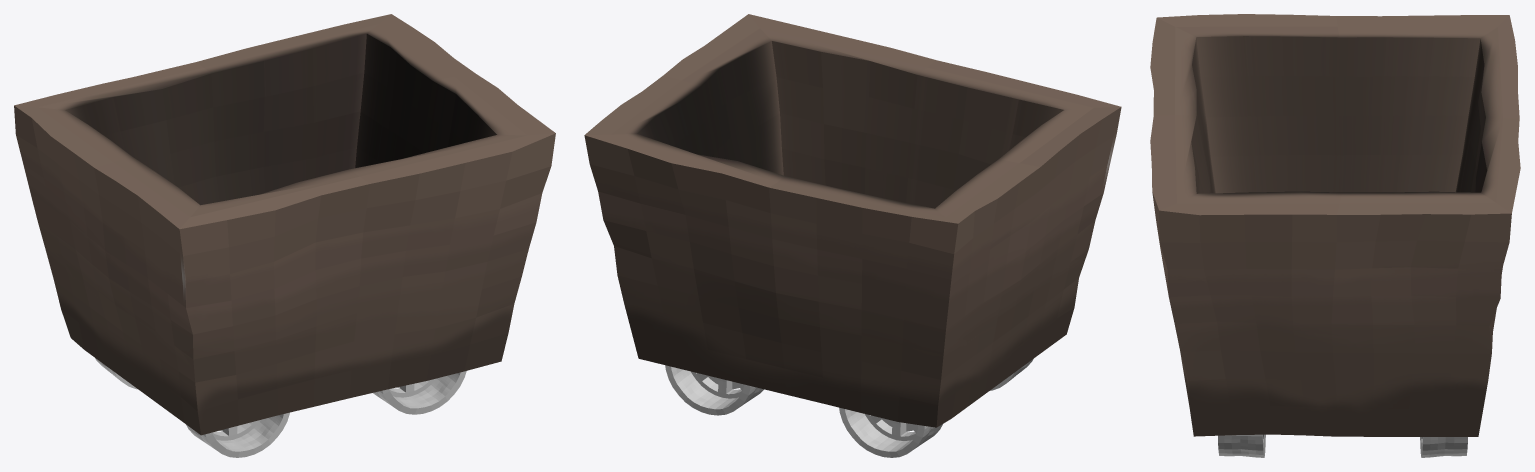
Rendered from cart.fbx.
The picture shows the model from 3 angles, left to right: view 1: azimuth 30°, elevation 25°; view 2: azimuth 150°, elevation 25°; view 3: azimuth 270°, elevation 25°; orthographic projection. The views are drawn at different scales.
Visible parts, largest first — view 1: Cube_original, Cylinder.004, Cylinder.003; view 2: Cube_original, Cylinder.002, Cylinder.001; view 3: Cube_original, Cylinder.003, Cylinder.001.
Boxes of the visible parts, x1,y1,x2,y2 form: Cube_original: [14, 14, 555, 435]; Cylinder.004: [186, 412, 289, 457]; Cylinder.003: [373, 371, 466, 414]; Cube_original: [584, 14, 1121, 427]; Cylinder.002: [839, 407, 942, 457]; Cylinder.001: [665, 365, 763, 415]; Cube_original: [1150, 14, 1520, 436]; Cylinder.003: [1218, 434, 1265, 457]; Cylinder.001: [1420, 437, 1467, 457].
Size of the model in its own units: 191 by 132 by 150.
